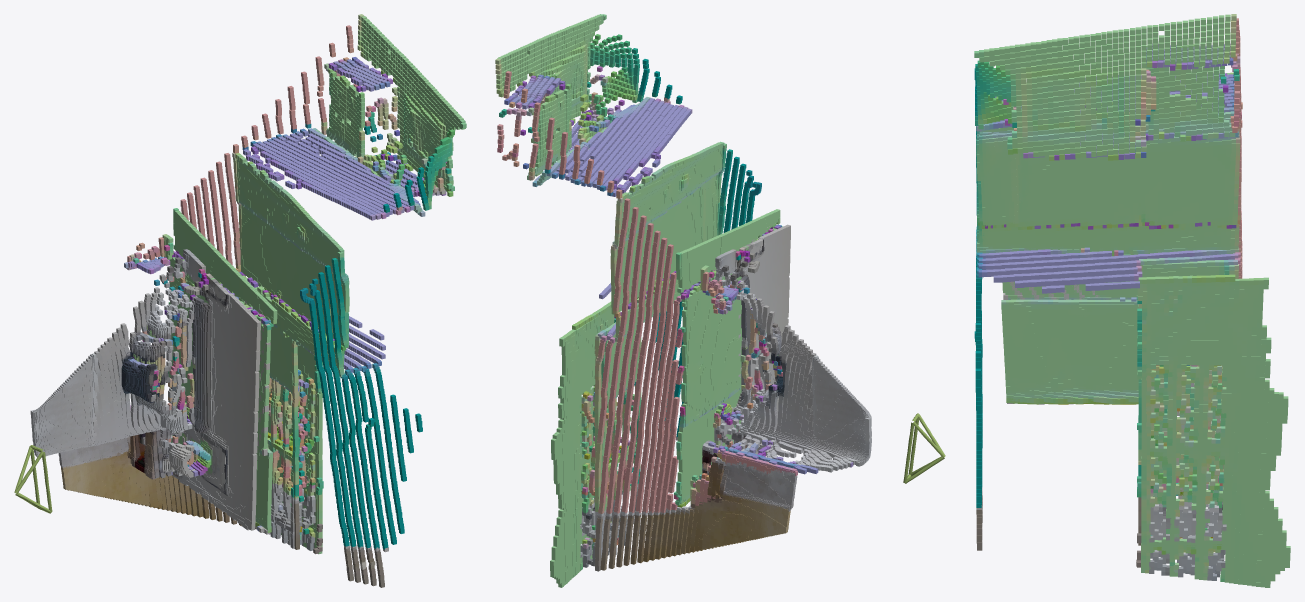
3 renders of one model, left to right at view 1: azimuth 30°, elevation 25°; view 2: azimuth 150°, elevation 25°; view 3: azimuth 270°, elevation 25°, orthographic. The views are drawn at different scales.
Size of the model in its own units: 5.34 by 6.39 by 2.96.
